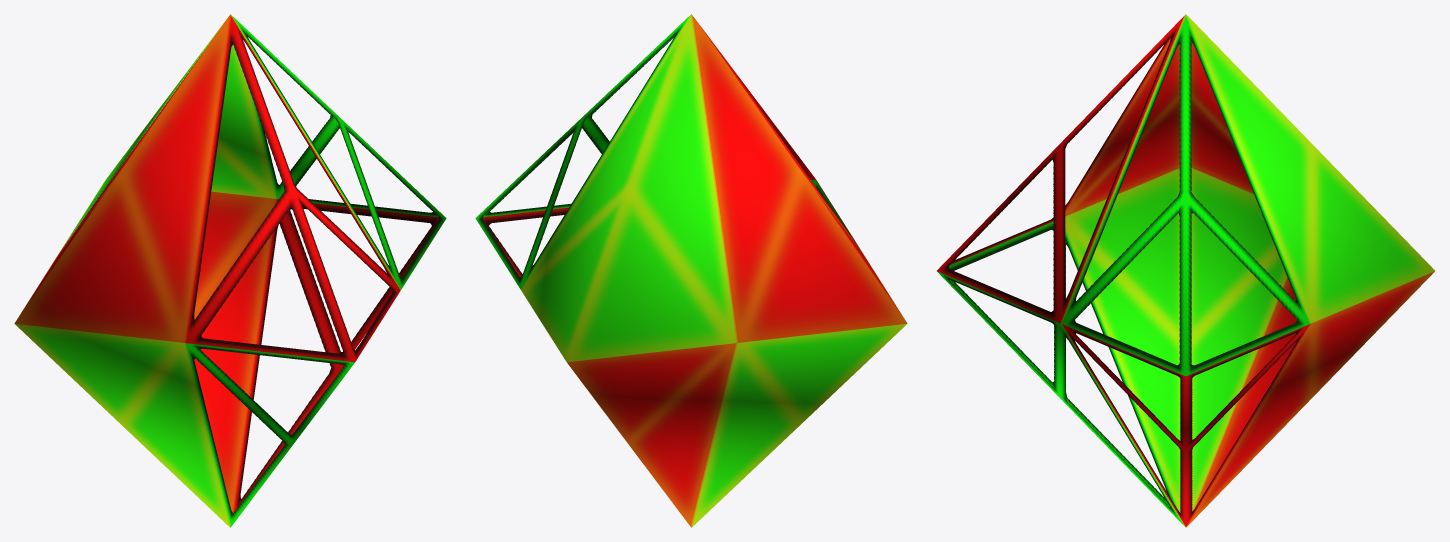
File: KillerWaveSpawnWidget.fbx
The picture shows the model from 3 angles, left to right: view 1: azimuth 30°, elevation 25°; view 2: azimuth 150°, elevation 25°; view 3: azimuth 270°, elevation 25°; orthographic projection.
Visible parts, largest first — view 1: KillerWaveSpawnWidget; view 2: KillerWaveSpawnWidget; view 3: KillerWaveSpawnWidget.
Boxes of the visible parts, <box> form: KillerWaveSpawnWidget: <box>14,14,446,527</box>; KillerWaveSpawnWidget: <box>475,14,907,527</box>; KillerWaveSpawnWidget: <box>937,14,1434,527</box>.
Size of the model in its own units: 2 by 2.27 by 2.
